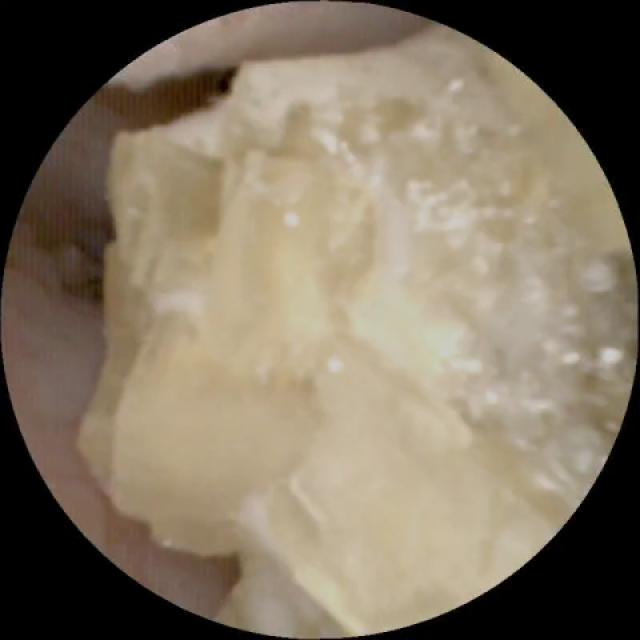stone: (81, 36, 626, 628)
